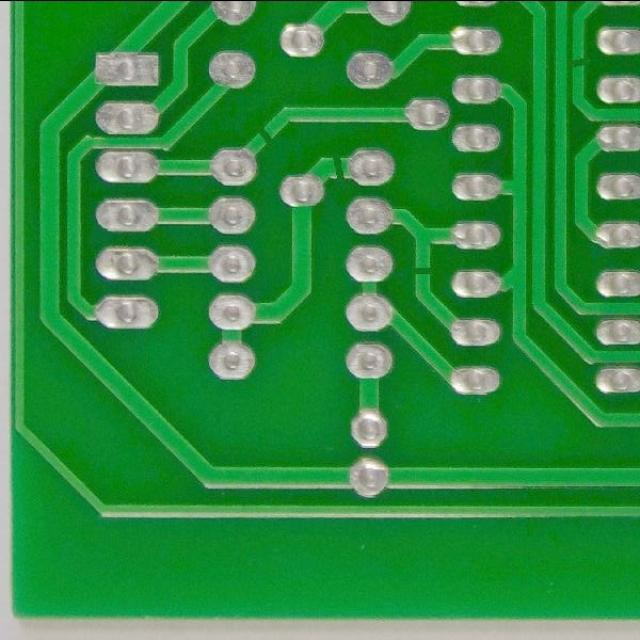Open_Circuit: (325, 143, 352, 189), (406, 258, 439, 285), (252, 120, 282, 148), (568, 50, 594, 76)
